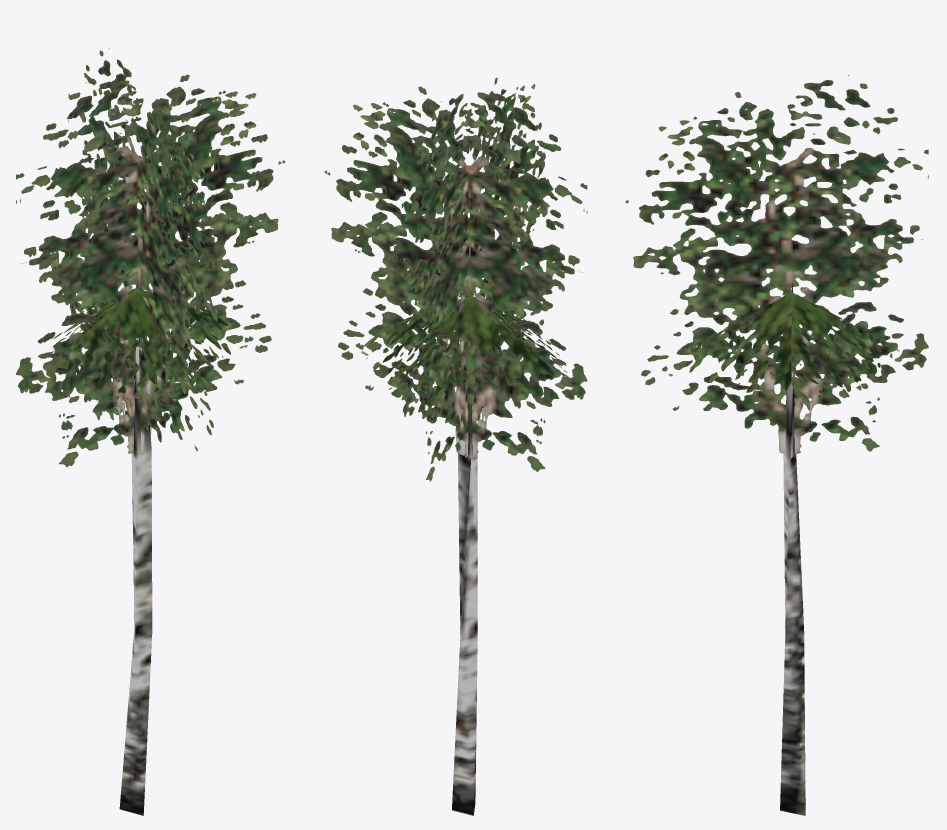
Rendered from birch3.glb.
3 views of the same model, side by side, from view 1: azimuth 30°, elevation 25°; view 2: azimuth 150°, elevation 25°; view 3: azimuth 270°, elevation 25° (orthographic). The views are drawn at different scales.
Parts seen in each view (by area): view 1: birch 3; view 2: birch 3; view 3: birch 3.
Part boxes in pixels (x1,y1,x2,y2): birch 3: [16, 48, 285, 815]; birch 3: [324, 77, 587, 815]; birch 3: [625, 75, 928, 815].
Size of the model in its own units: 5.36 by 13.81 by 5.31.
Materials: 1 (1 with a texture image).
